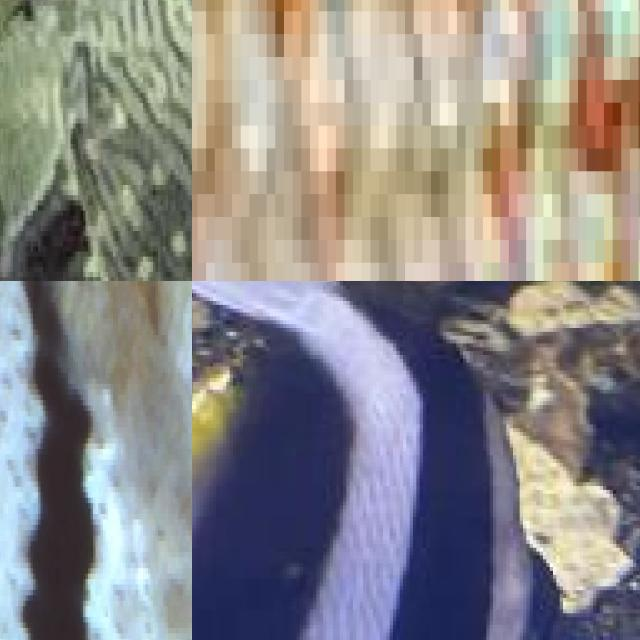fish: (192, 0, 640, 281), (0, 281, 192, 640), (0, 0, 192, 281)
